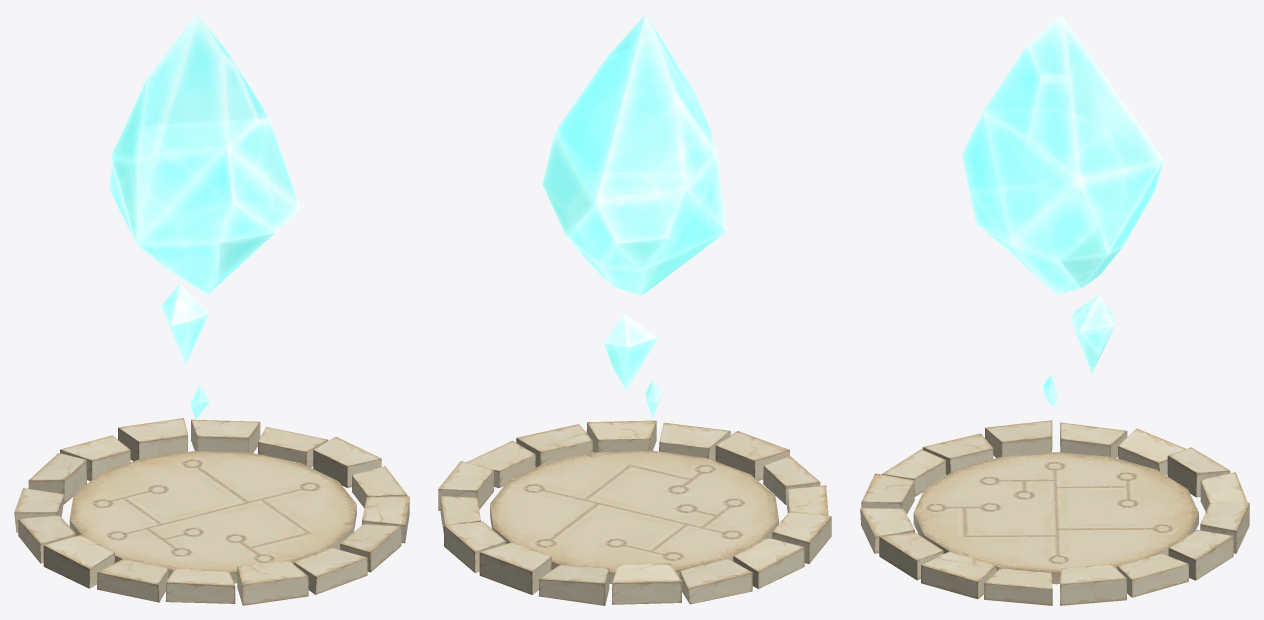
File: Crystal-transformed.glb
3 views of the same model, side by side, from view 1: azimuth 30°, elevation 25°; view 2: azimuth 150°, elevation 25°; view 3: azimuth 270°, elevation 25° (orthographic). The views are drawn at different scales.
Parts seen in each view (by area): view 1: Crystal1_M_crystal_0, Crystal1_M_trimsheet_0, Crystal1_M_crystalbase_0; view 2: Crystal1_M_crystal_0, Crystal1_M_trimsheet_0, Crystal1_M_crystalbase_0; view 3: Crystal1_M_crystal_0, Crystal1_M_trimsheet_0, Crystal1_M_crystalbase_0, Crystal1_M_bricktile_0.
Boxes of the visible parts, box(x1,y1,x2,y2) form: Crystal1_M_crystal_0: box(109, 14, 300, 419); Crystal1_M_trimsheet_0: box(14, 418, 409, 605); Crystal1_M_crystalbase_0: box(69, 451, 356, 572); Crystal1_M_crystal_0: box(542, 14, 726, 418); Crystal1_M_trimsheet_0: box(438, 420, 831, 605); Crystal1_M_crystalbase_0: box(490, 450, 778, 572); Crystal1_M_crystal_0: box(962, 14, 1163, 408); Crystal1_M_trimsheet_0: box(860, 420, 1249, 605); Crystal1_M_crystalbase_0: box(913, 452, 1198, 572); Crystal1_M_bricktile_0: box(913, 513, 1198, 584).
Size of the model in its own units: 0.058 by 0.0827 by 0.058.
4 materials, 4 textured.
